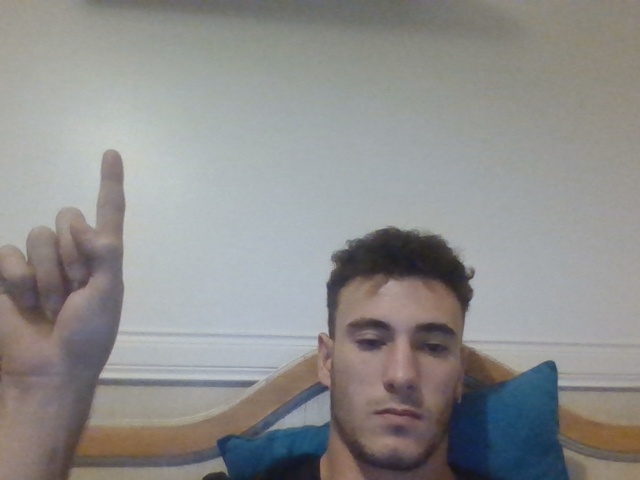Up: (1, 150, 124, 369)
